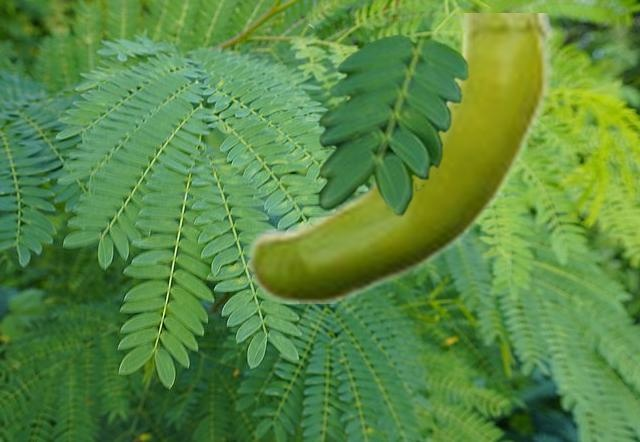green_chili: (243, 13, 555, 302)
